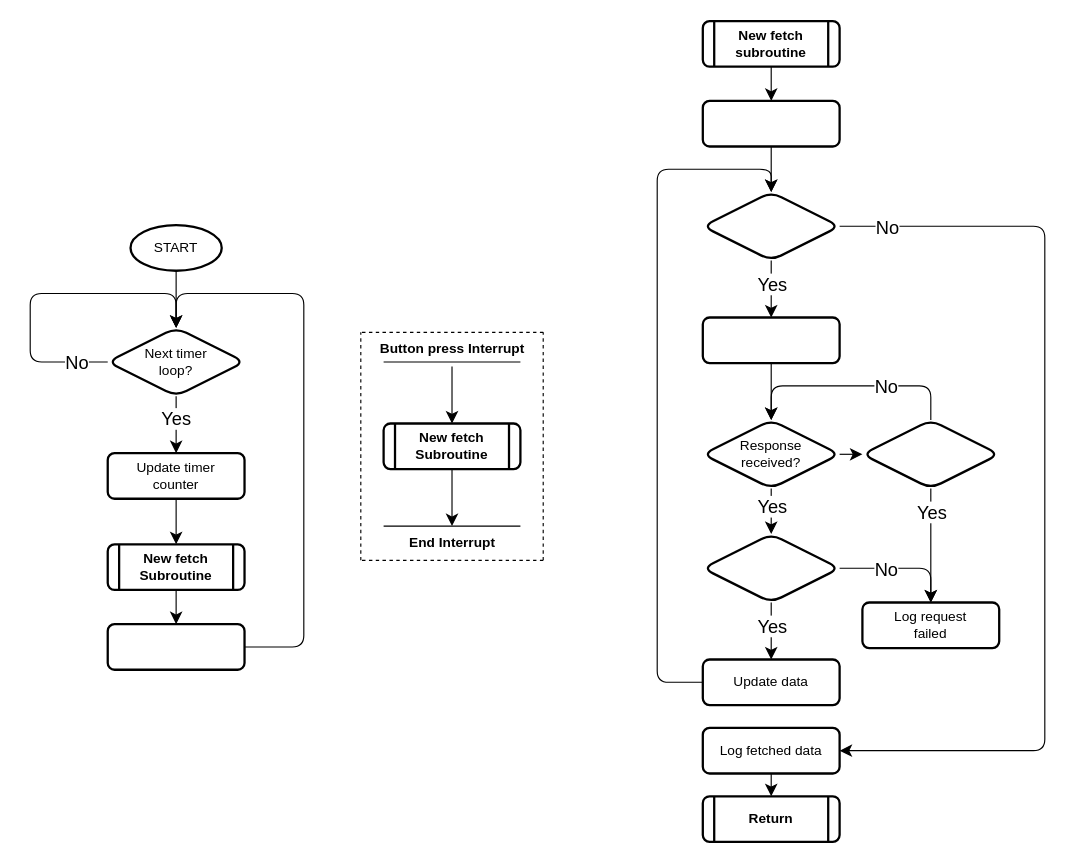
This 1076x863 diagram has some shape labels left out. Here are the shapes that lost their labels. From the top down, the box of each, then its label:
(701, 99, 840, 147): Request code itr = 0
(701, 190, 840, 261): Requests left?
(701, 316, 840, 364): Send request
(861, 418, 1000, 489): Timeout > 500ms?
(701, 532, 840, 603): Response OK?
(106, 622, 245, 670): Reset next loop flag
